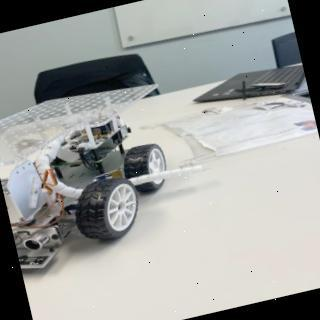vehicle: (1, 77, 190, 284)
